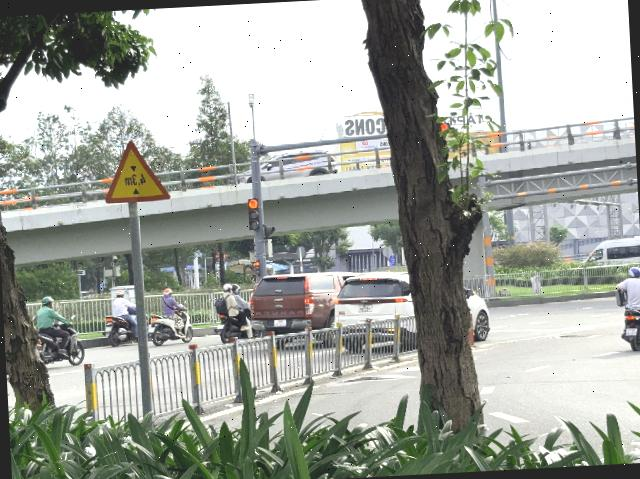chieu-cao-tinh-khong-thuc-te: (102, 139, 172, 203)
